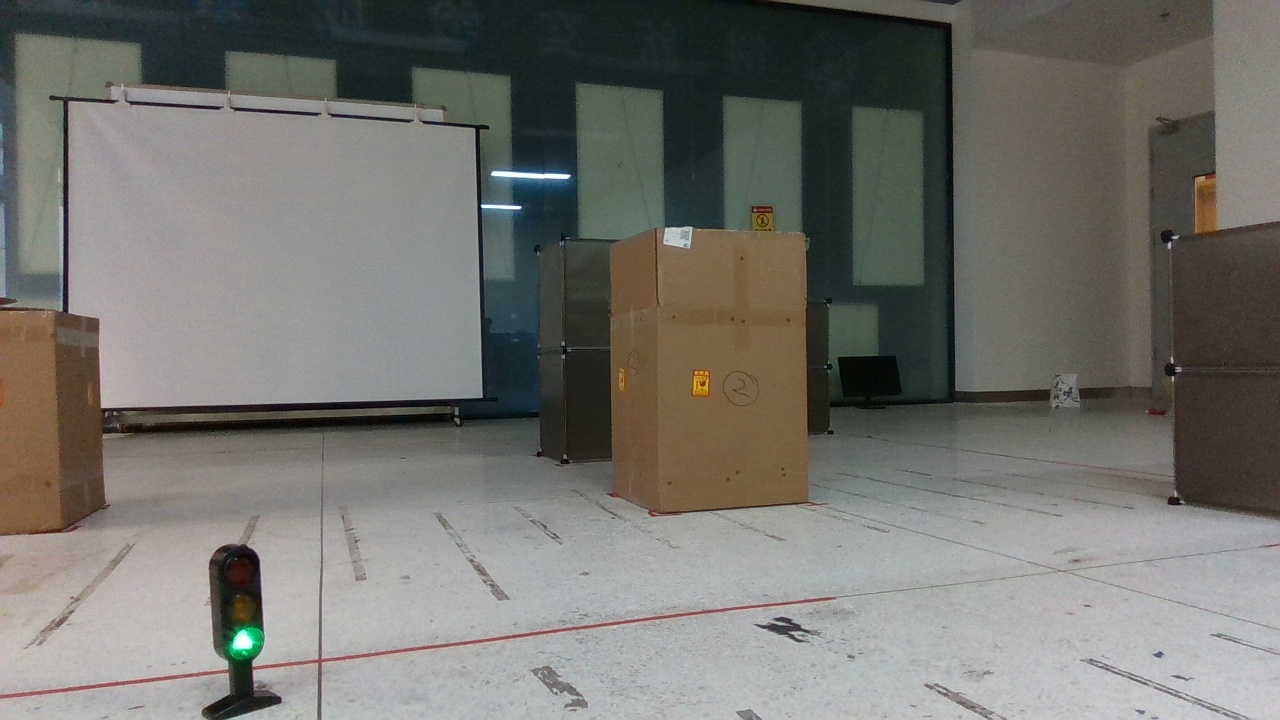green_light: (184, 526, 314, 720)
